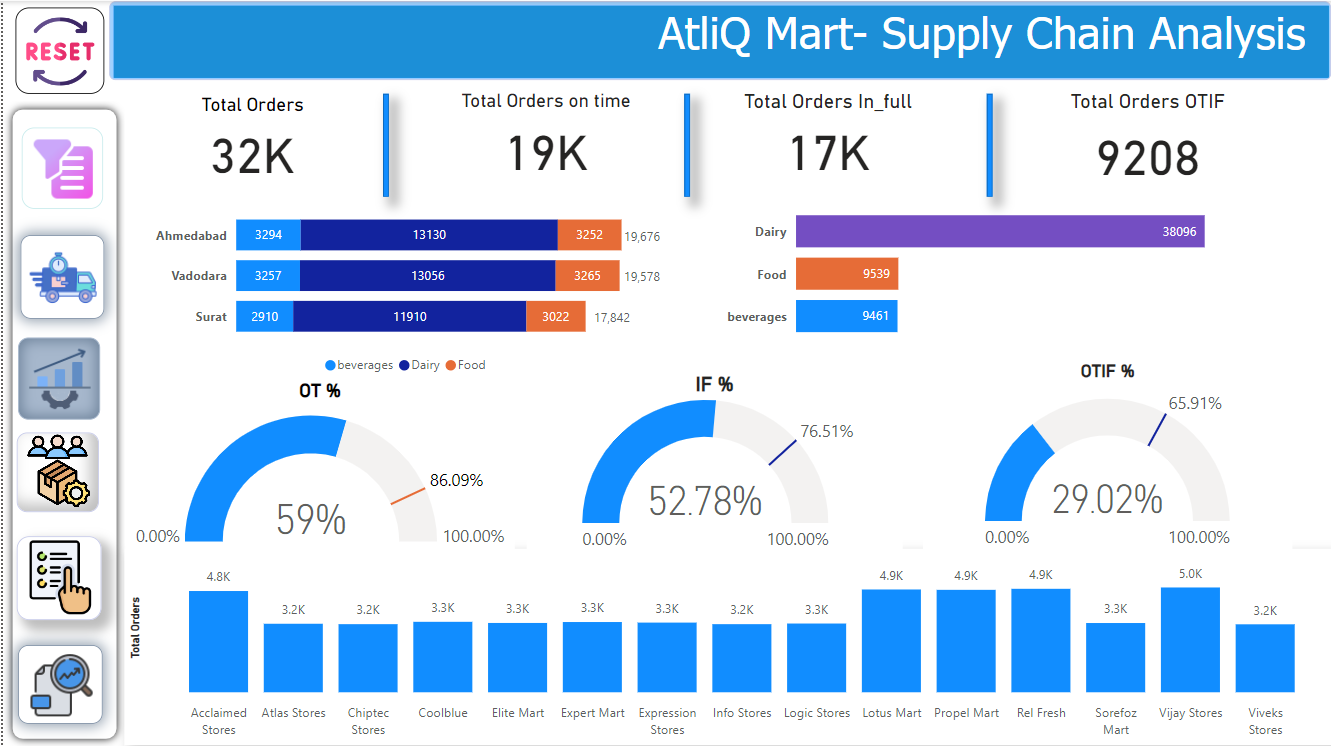

The dashboard page shown, as its layout file describes it:
{"tool":"powerbi","page":{"name":"Orders","canvas":[1280,720],"ordinal":1},"visuals":[{"type":"shape","title":"Shape - BG","box":[1.2,97.8,116.2,622.4],"z":0,"group":"g2"},{"type":"barChart","fields":{"Y":["CountNonNull(fact_order_lines.order_qty)"],"Category":["dim_products.category"]},"box":[692.1,178.5,491.6,165.1],"z":0},{"type":"card","title":"Total Orders","fields":{"Values":["Count(fact_order_lines.order_id)"]},"box":[112.5,90.9,256.8,88],"z":1000},{"type":"image","title":"Over Time","box":[15,325.6,79.5,79.5],"z":1000,"group":"g2"},{"type":"shape","box":[17.1,307.1,85,85],"z":2000},{"type":"image","title":"Insights","box":[14.4,621.4,81.9,75.8],"z":2000,"group":"g2"},{"type":"card","title":"Total Orders on time","fields":{"Values":["metrics.Total_orders_ontime"]},"box":[389.5,86.6,268.4,89.5],"z":3000},{"type":"image","title":"Delivery","box":[17.2,226.2,80.7,80.7],"z":3000,"group":"g2"},{"type":"group","id":"g1","title":"Group 3","box":[1.2,97.8,116.2,622.4],"z":3002,"group":"g3"},{"type":"card","title":"Total Orders In_full","fields":{"Values":["metrics.Total_orders_Infull"]},"box":[663.7,86.6,262.6,89.5],"z":4000},{"type":"barChart","fields":{"Category":["dim_Customers.city"],"Series":["dim_products.category"],"Y":["CountNonNull(fact_order_lines.product_id)"]},"box":[140.6,183.4,497.7,187.1],"z":5000},{"type":"image","box":[13.8,417.3,79.5,77],"z":5000,"group":"g2"},{"type":"card","title":"Total Orders OTIF","fields":{"Values":["metrics.Total_orders_ontime&Infull"]},"box":[965.2,86.6,277,98.1],"z":6000},{"type":"image","box":[13.2,517.4,81.9,80.7],"z":6000,"group":"g2"},{"type":"clusteredColumnChart","fields":{"Category":["dim_Customers.customer_name"],"Y":["CountNonNull(fact_order_lines.order_id)"]},"box":[117.4,529.5,1162.9,189.5],"z":7000},{"type":"gauge","title":"OT %","fields":{"Y":["metrics.on_time_delivery"],"TargetValue":["metrics.avg_Target_on_time"]},"box":[118.3,366.5,375.1,174.6],"z":8000},{"type":"gauge","title":"IF %","fields":{"Y":["metrics.In_full_delivery"],"TargetValue":["metrics.avg_in_full_target"]},"box":[505,359.2,362.1,181.8],"z":9000},{"type":"gauge","title":"OTIF %","fields":{"Y":["metrics.on_time_in_full"],"TargetValue":["metrics.avg_OTIF_Target"]},"box":[886.6,347.3,355.8,192],"z":10000},{"type":"shape","box":[102.7,1.2,1177.6,75.8],"z":11000},{"type":"textbox","box":[626.1,0,654.2,75.8],"z":12000},{"type":"shape","box":[366.5,90.9,5.8,99.6],"z":13000},{"type":"group","id":"g2","title":"Group 1","box":[1.2,97.8,116.2,622.4],"z":13000,"group":"g1"},{"type":"shape","box":[947.9,90.9,5.8,99.6],"z":14000},{"type":"shape","box":[657.2,90.9,5.8,99.6],"z":15000},{"type":"image","box":[18.3,123.7,78.3,78.3],"z":17000,"group":"g1"},{"type":"image","box":[12.2,7.3,85.6,83.2],"z":20500},{"type":"group","id":"g3","title":"Group 2","box":[1.2,97.8,116.2,622.4],"z":21000}]}

Visuals, with their boxes in screenshot pixels (x1, y1, x2, y2), scaled from the page's 1280x720 canvas onto the 1331x746 screenshot:
"Shape - BG" shape: x1=1, y1=101, x2=122, y2=745
barChart - CountNonNull(fact_order_lines.order_qty) x dim_products.category: x1=720, y1=185, x2=1231, y2=356
"Total Orders" card: x1=117, y1=94, x2=384, y2=185
"Over Time" image: x1=16, y1=337, x2=98, y2=420
shape: x1=18, y1=318, x2=106, y2=406
"Insights" image: x1=15, y1=644, x2=100, y2=722
"Total Orders on time" card: x1=405, y1=90, x2=684, y2=182
"Delivery" image: x1=18, y1=234, x2=102, y2=318
"Group 3" group: x1=1, y1=101, x2=122, y2=745
"Total Orders In_full" card: x1=690, y1=90, x2=963, y2=182
barChart - dim_Customers.city x dim_products.category: x1=146, y1=190, x2=664, y2=384
image: x1=14, y1=432, x2=97, y2=512
"Total Orders OTIF" card: x1=1004, y1=90, x2=1292, y2=191
image: x1=14, y1=536, x2=99, y2=620
clusteredColumnChart - dim_Customers.customer_name x CountNonNull(fact_order_lines.order_id): x1=122, y1=549, x2=1330, y2=745
"OT %" gauge: x1=123, y1=380, x2=513, y2=561
"IF %" gauge: x1=525, y1=372, x2=902, y2=561
"OTIF %" gauge: x1=922, y1=360, x2=1292, y2=559
shape: x1=107, y1=1, x2=1330, y2=80
textbox: x1=651, y1=0, x2=1330, y2=79
shape: x1=381, y1=94, x2=387, y2=197
"Group 1" group: x1=1, y1=101, x2=122, y2=745
shape: x1=986, y1=94, x2=992, y2=197
shape: x1=683, y1=94, x2=689, y2=197
image: x1=19, y1=128, x2=100, y2=209
image: x1=13, y1=8, x2=102, y2=94
"Group 2" group: x1=1, y1=101, x2=122, y2=745
